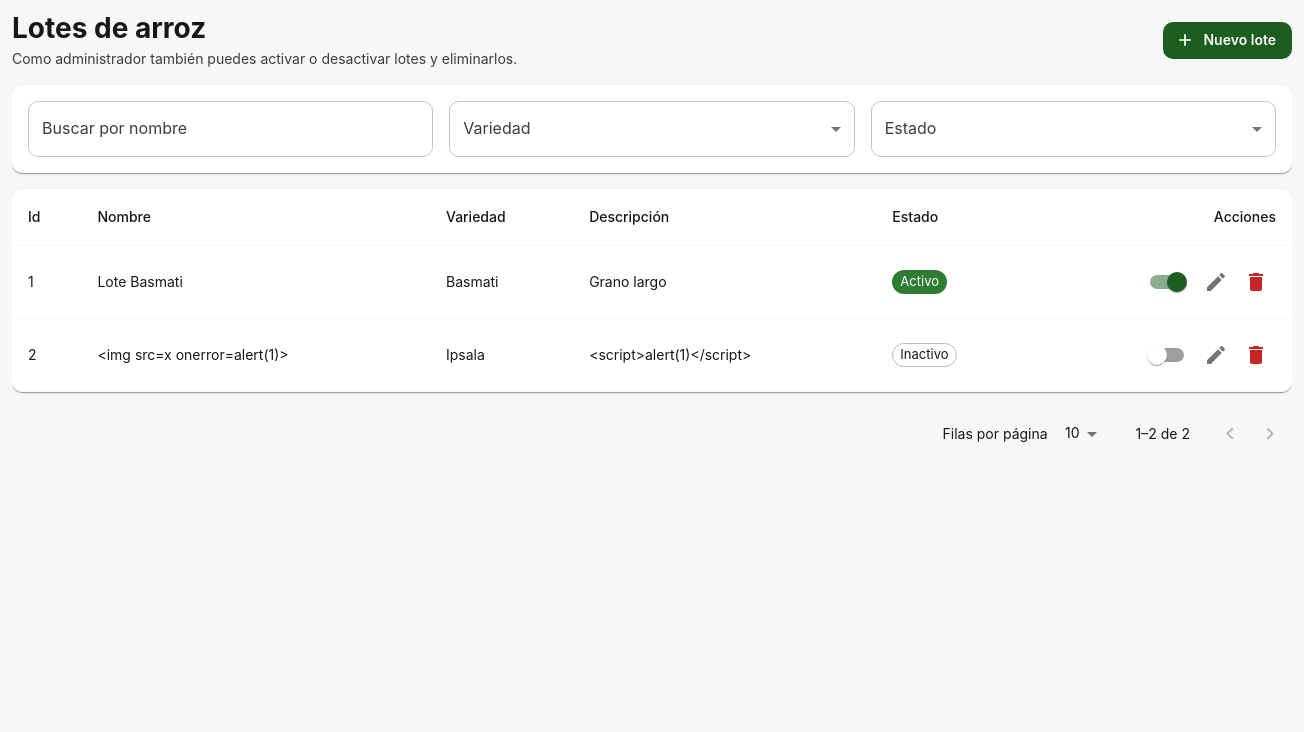
PaginaProductos › CA-10.2 el ADMIN activa un lote inactivo
What coordinates should you click on to do the following:
click the checkbox with test id "estado-2"
I would click on:
 (1157, 355)
Its box is left=1147, top=345, right=1167, bottom=365.
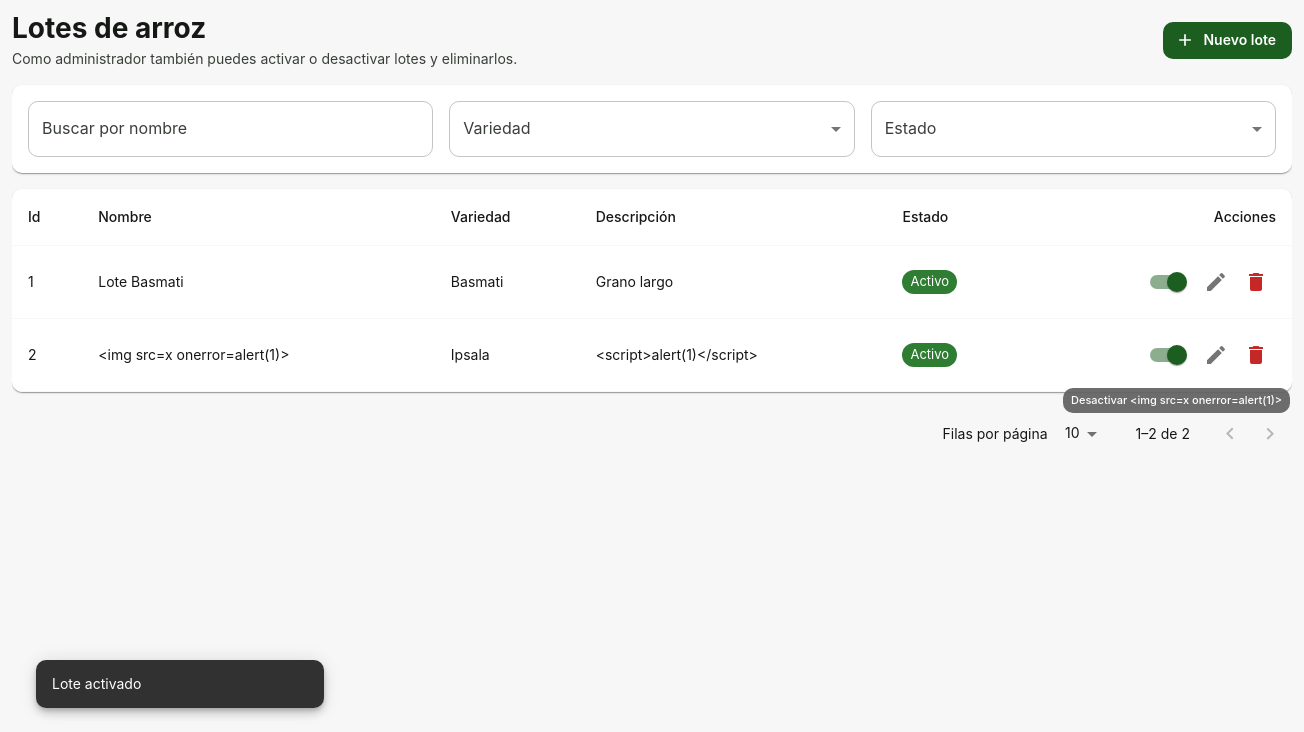
Expected: the text "Lote activado" is shown, left=52, top=675, right=141, bottom=692
